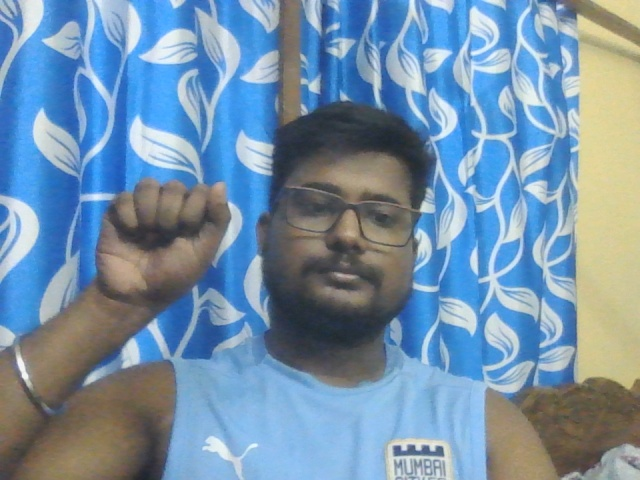A: (97, 179, 233, 294)
